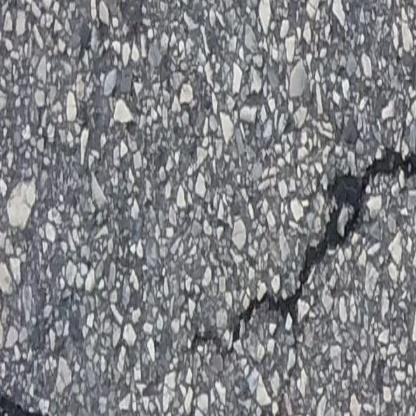Cracks: (192, 152, 416, 348), (0, 396, 122, 416), (176, 409, 194, 416)
